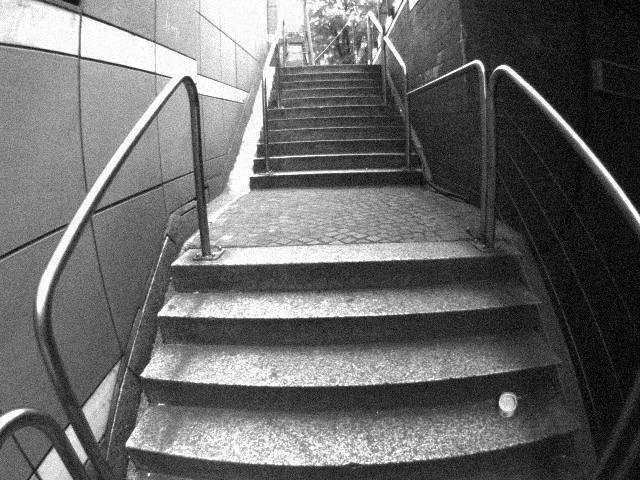Escaleras: (92, 249, 554, 479), (240, 67, 435, 207)
